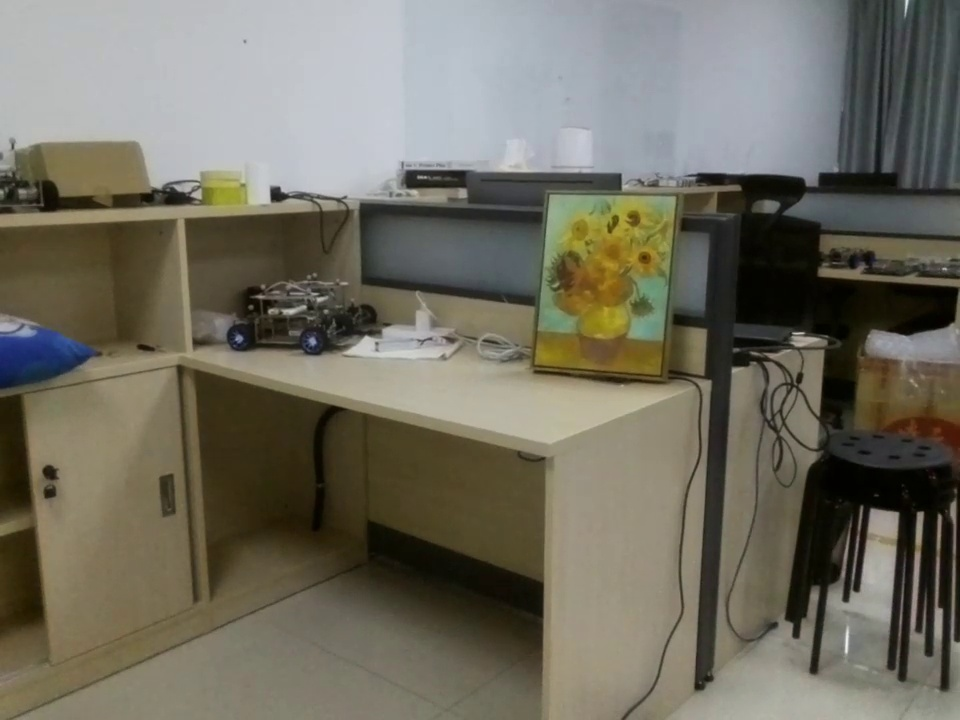painting: (532, 191, 688, 382)
